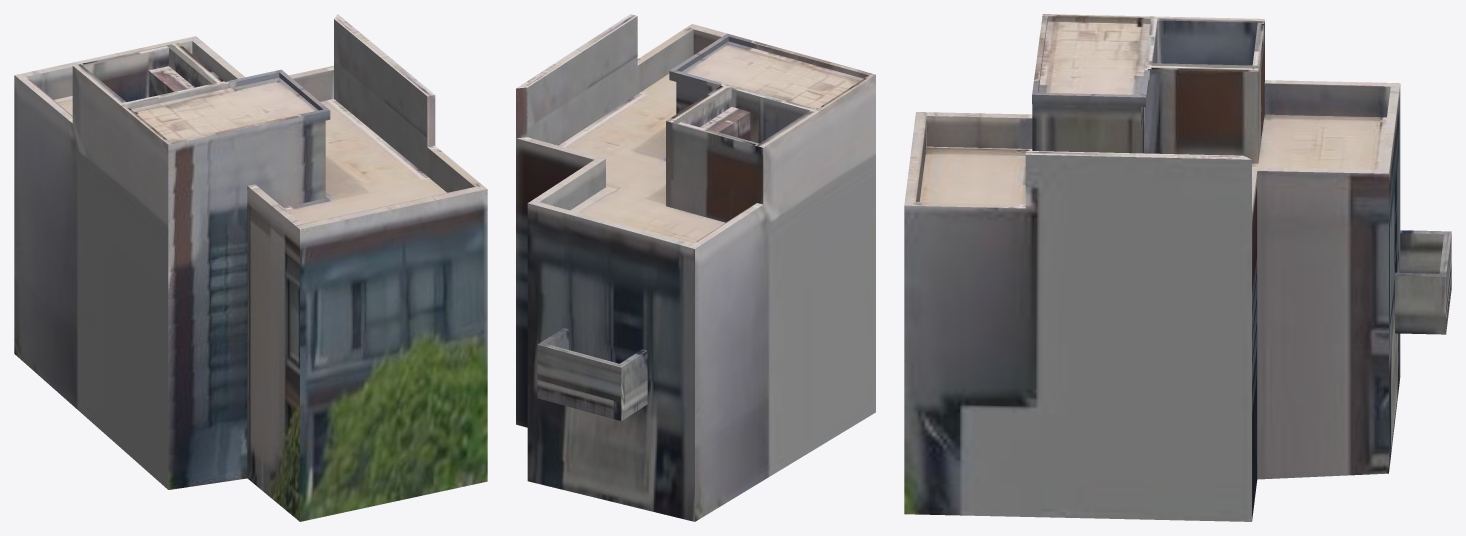
The picture shows the model from 3 angles, left to right: view 1: azimuth 30°, elevation 25°; view 2: azimuth 150°, elevation 25°; view 3: azimuth 270°, elevation 25°; orthographic projection. The views are drawn at different scales.
Parts seen in each view (by area): view 1: B283524030601062A0; view 2: B283524030601062A0; view 3: B283524030601062A0.
Part boxes in pixels (left/top/right/bottom): B283524030601062A0: left=14, top=14, right=487, bottom=521; B283524030601062A0: left=516, top=14, right=875, bottom=521; B283524030601062A0: left=904, top=14, right=1451, bottom=521.
Bounding box in the file's own units: 9 × 11.22 × 15.06.
1 material, 1 textured.
